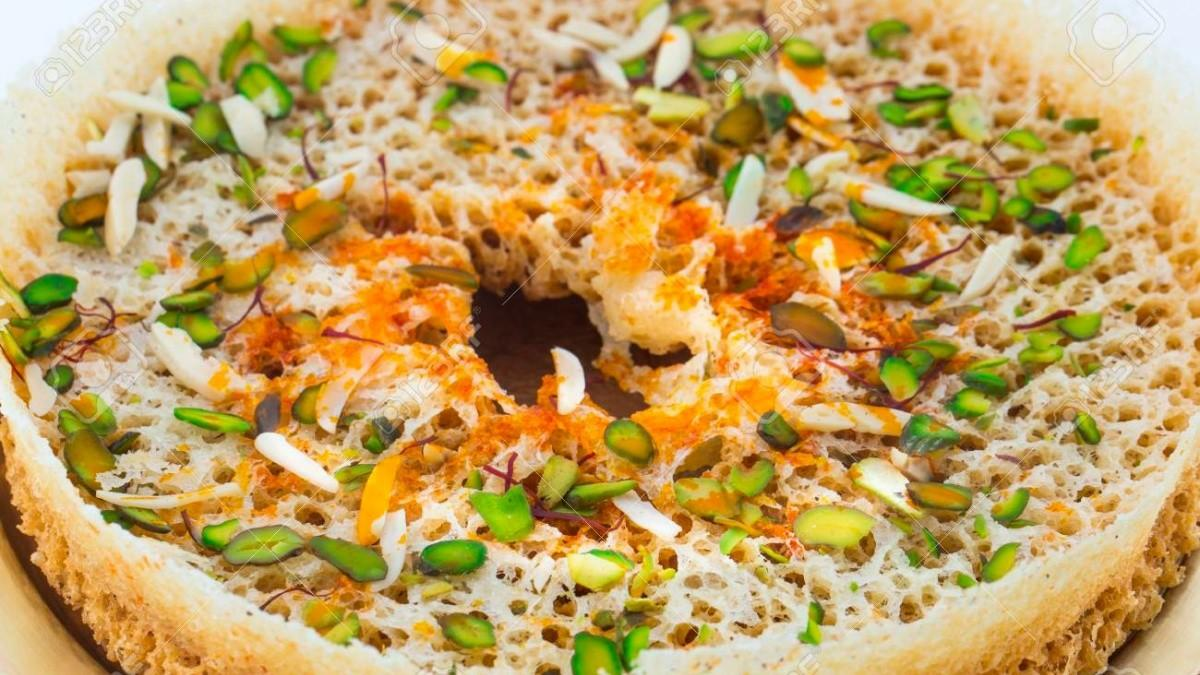Ghevar: (6, 0, 1200, 675)
